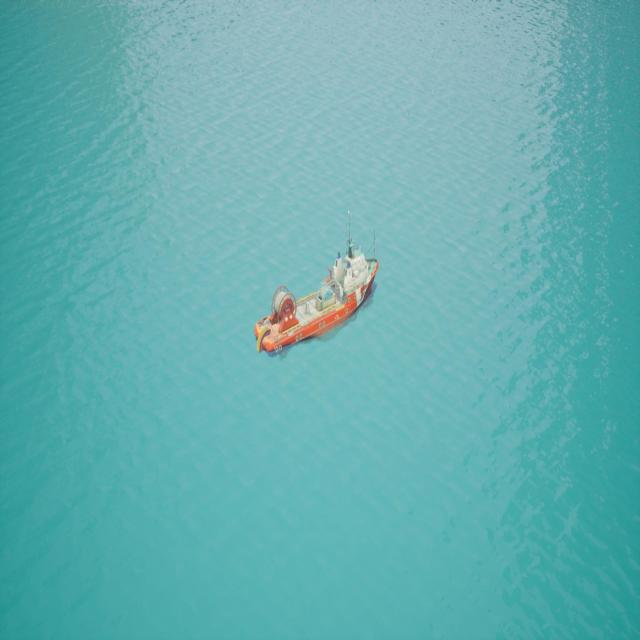tug boat: (257, 254, 381, 357)
